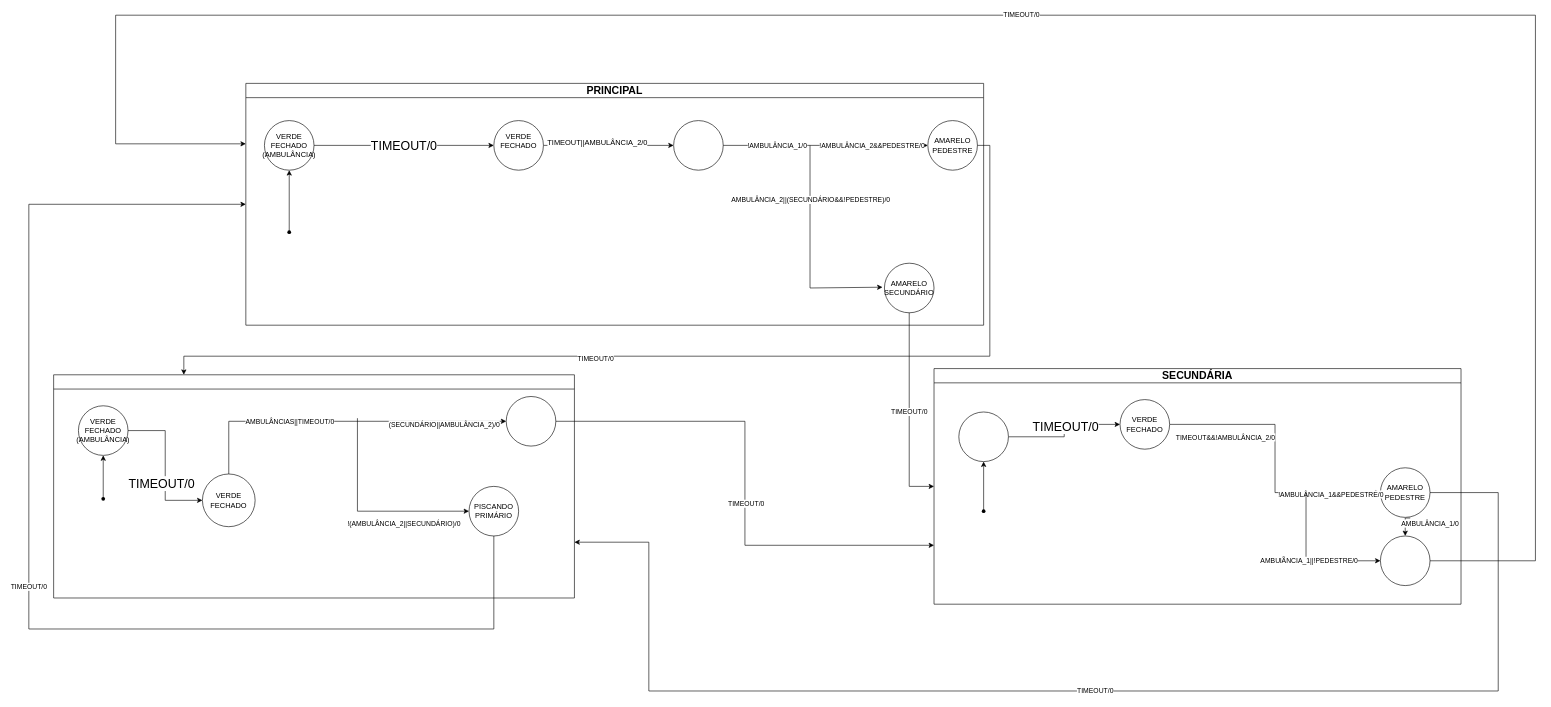
Image size: 1551x707. Some labels were removed from this diagram. The box of each missing label's shape, as (x1, y1, x2, y2) in pixels:
AMARELO PRIMÁRIO: (1380, 535, 1430, 586)
PEDESTRE: (53, 374, 574, 598)
PISCANDO SECUNDÁRIO: (506, 396, 556, 446)
VERDE FECHADO (AMBULANCIA): (958, 411, 1008, 462)
VERDE IDLE: (673, 120, 723, 170)
